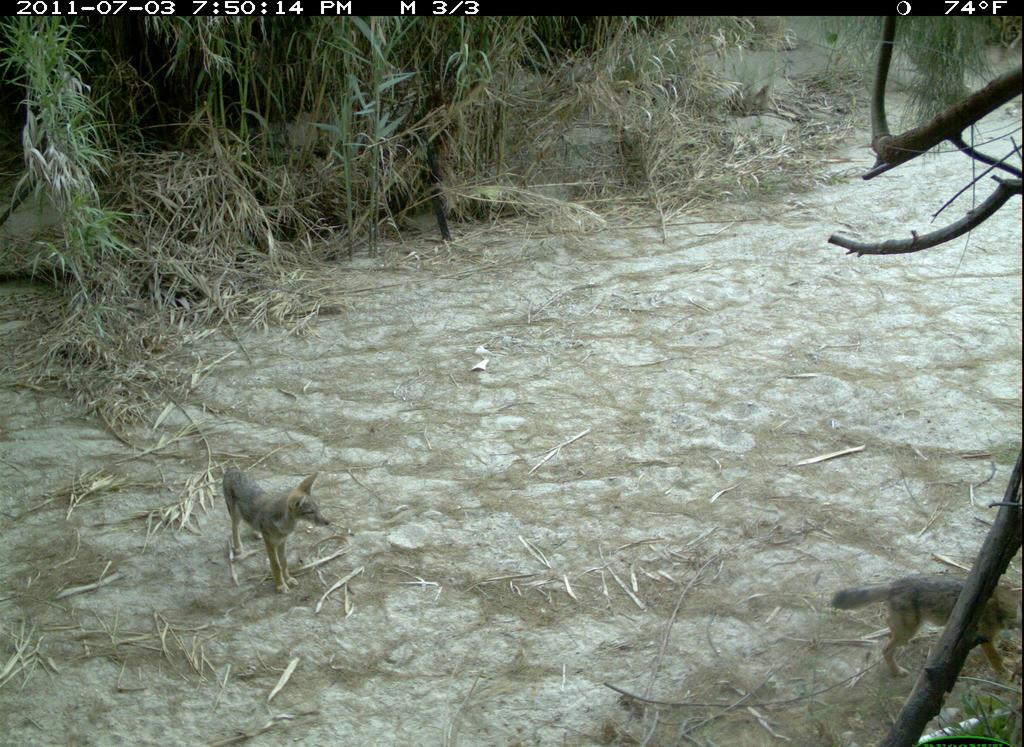coyote: (827, 568, 1024, 688), (215, 456, 338, 601)
